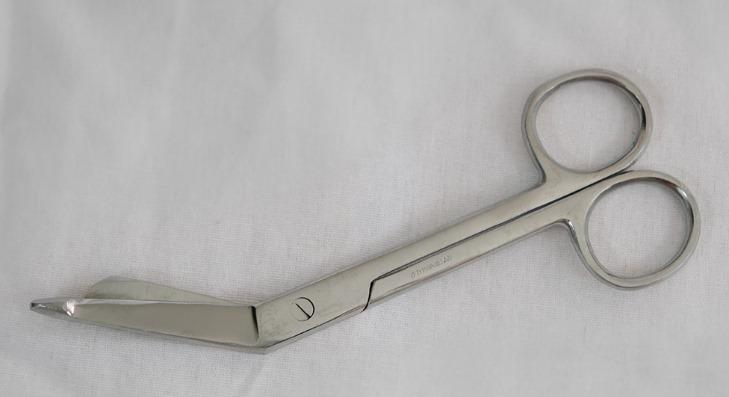Bandage Sciccors: (23, 56, 702, 358)
